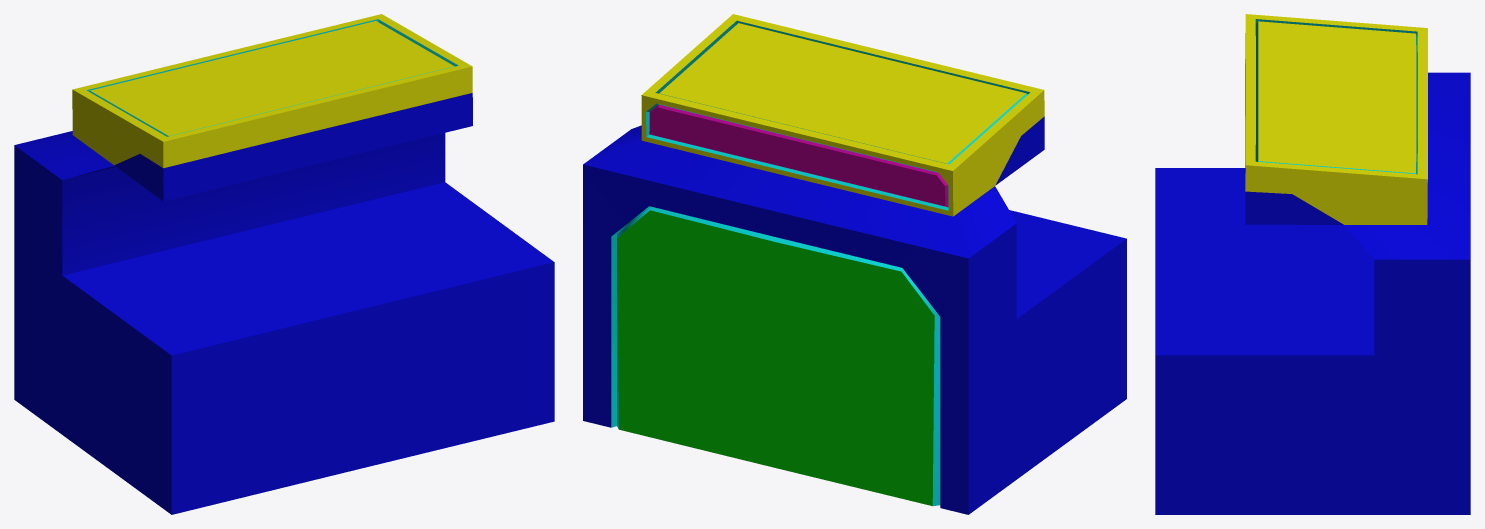
File: SM0036_Scifi_HangarBase_01.fbx
3 views of the same model, side by side, from view 1: azimuth 30°, elevation 25°; view 2: azimuth 150°, elevation 25°; view 3: azimuth 270°, elevation 25° (orthographic).
Parts seen in each view (by area): view 1: SM0036_Scifi_HangarBase_01; view 2: SM0036_Scifi_HangarBase_01; view 3: SM0036_Scifi_HangarBase_01.
Boxes of the visible parts, x1,y1,x2,y2 form: SM0036_Scifi_HangarBase_01: (14, 14, 554, 514); SM0036_Scifi_HangarBase_01: (583, 14, 1126, 514); SM0036_Scifi_HangarBase_01: (1155, 14, 1470, 514).
Bounding box in the file's own units: 800 × 661 × 570.
